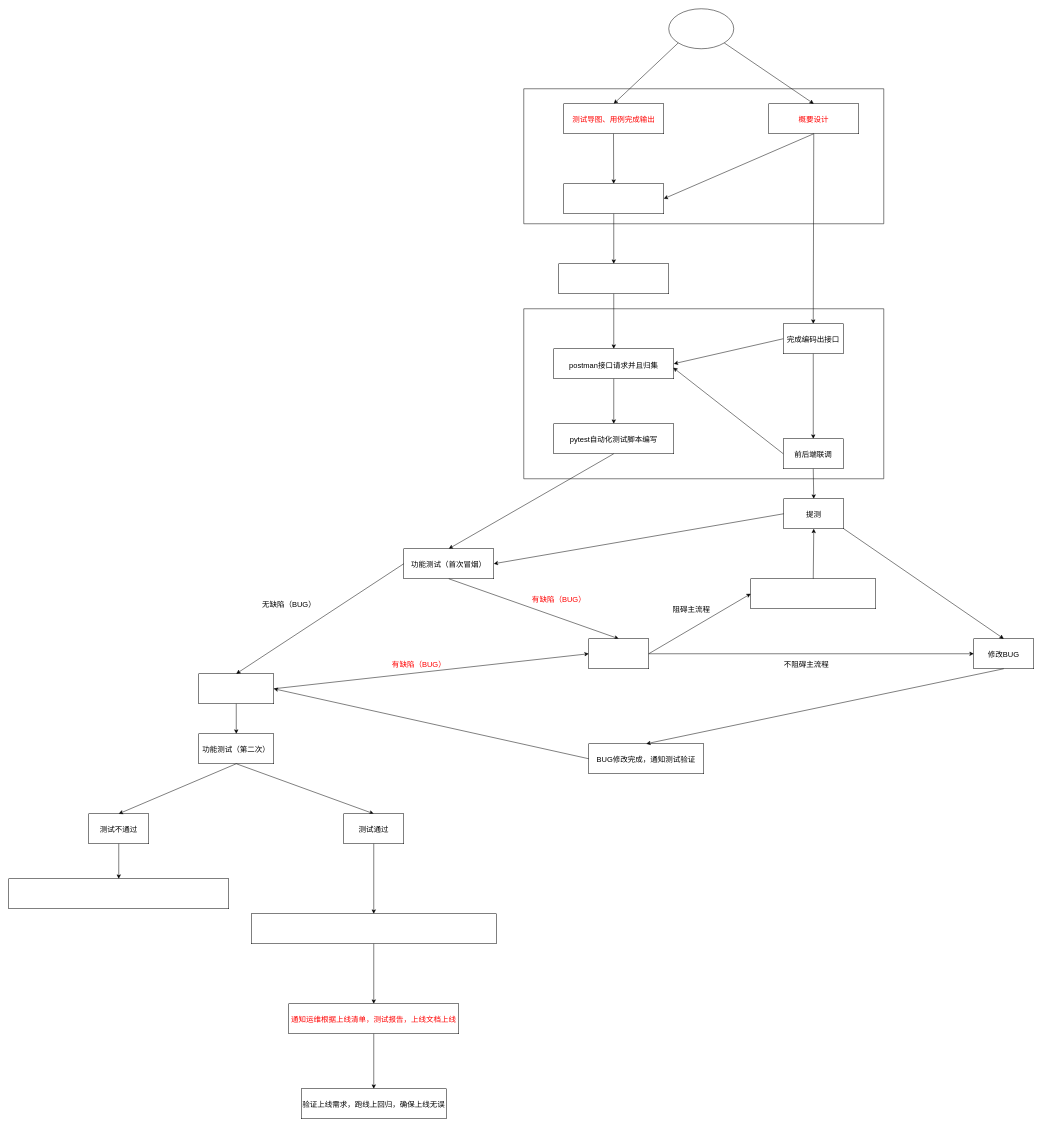
This 1043x1128 diagram has some shape labels left out. Here are the shapes that lost their labels. From the top down, the box of each, then its label:
(668, 8, 734, 49): 版本（需求评审）
(563, 183, 664, 214): 导图、用例、概要设计评审
(558, 263, 669, 294): 初步输出测试报告-需求影响点
(750, 578, 876, 609): 更新测试报告，并版本打回重新提测
(588, 638, 649, 669): BUG提交
(198, 673, 274, 704): 功能测试（第一次）
(8, 878, 229, 909): 已到上线时间，需求还未通过，多方确认是否延期，处理方案
(251, 913, 496, 944): 跑pytest回归脚本，完善测试报告，发布上线意见，通知相关人员
